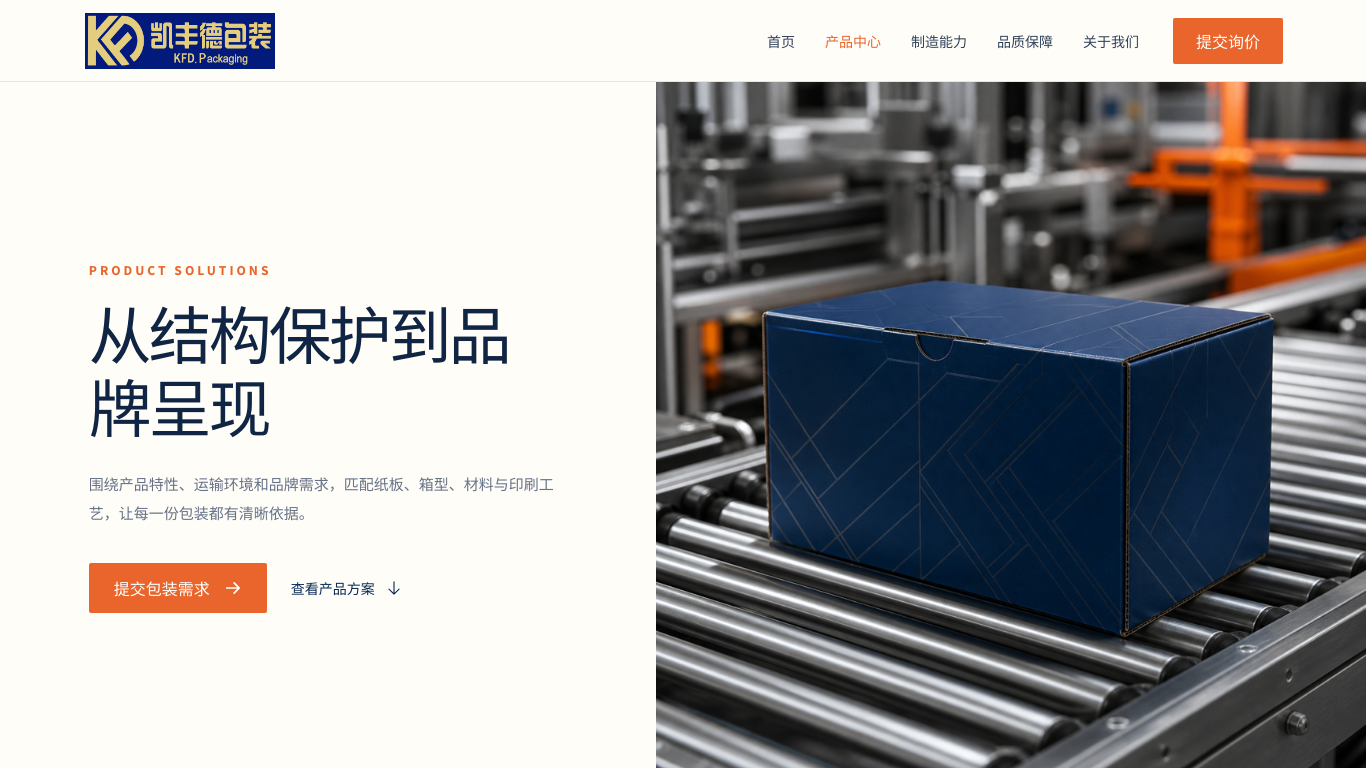
Test case: KFD homepage › renders the product solutions page and opens its quote entry
Check: the heading "从结构保护到品牌呈现" is shown, box [89,296,567,442]
Click the button "提交包装需求".
click(178, 588)  # box [89,563,267,613]
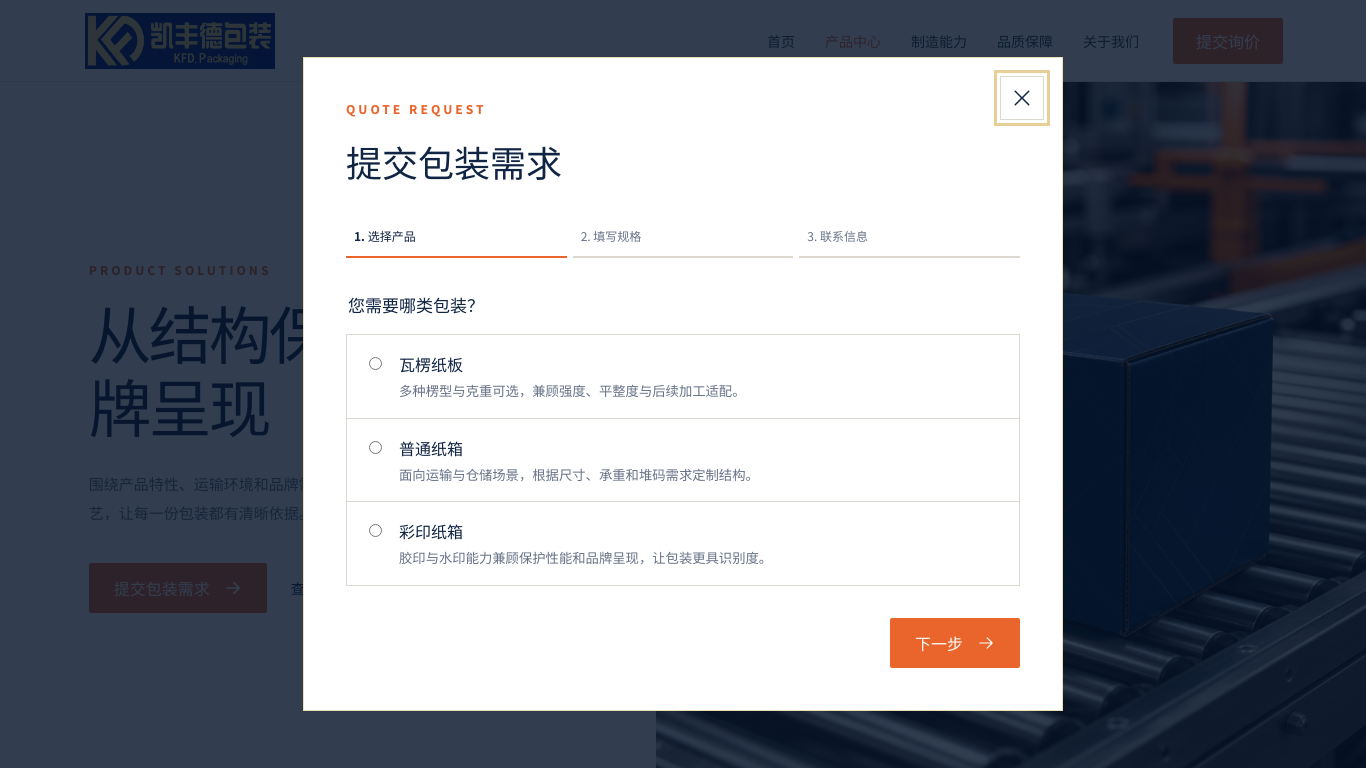
Check: the dialog "提交包装需求" is shown, box [303,56,1063,712]
